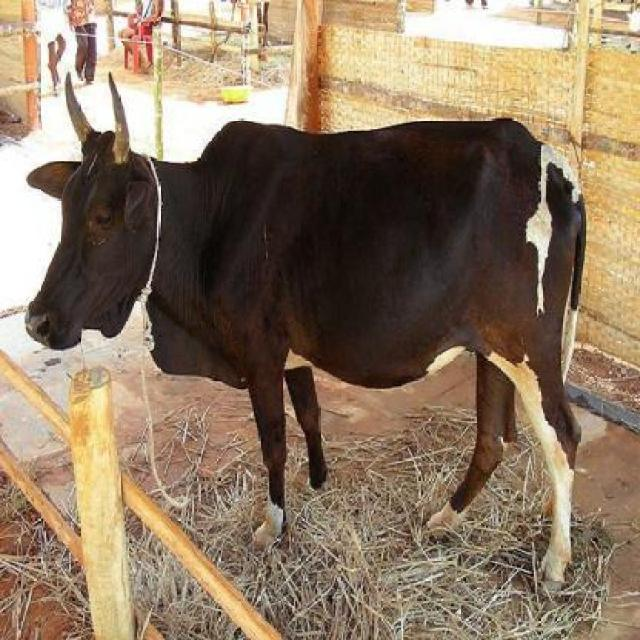Cow: (25, 69, 588, 597)
